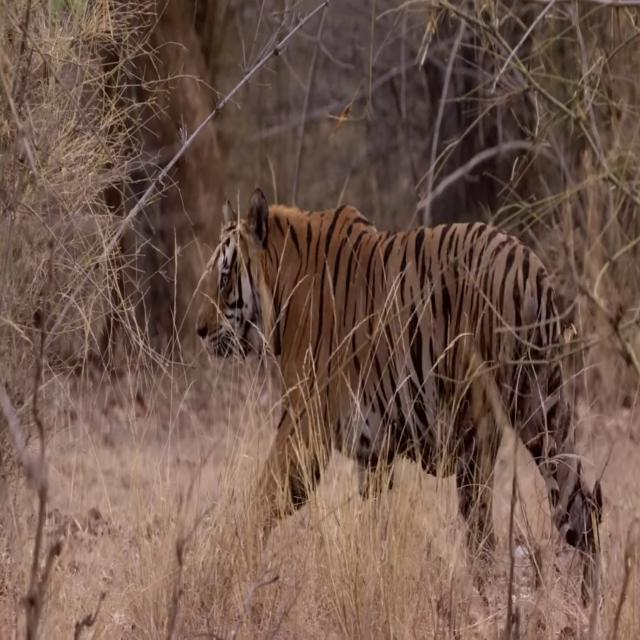tiger: (193, 186, 603, 640)
